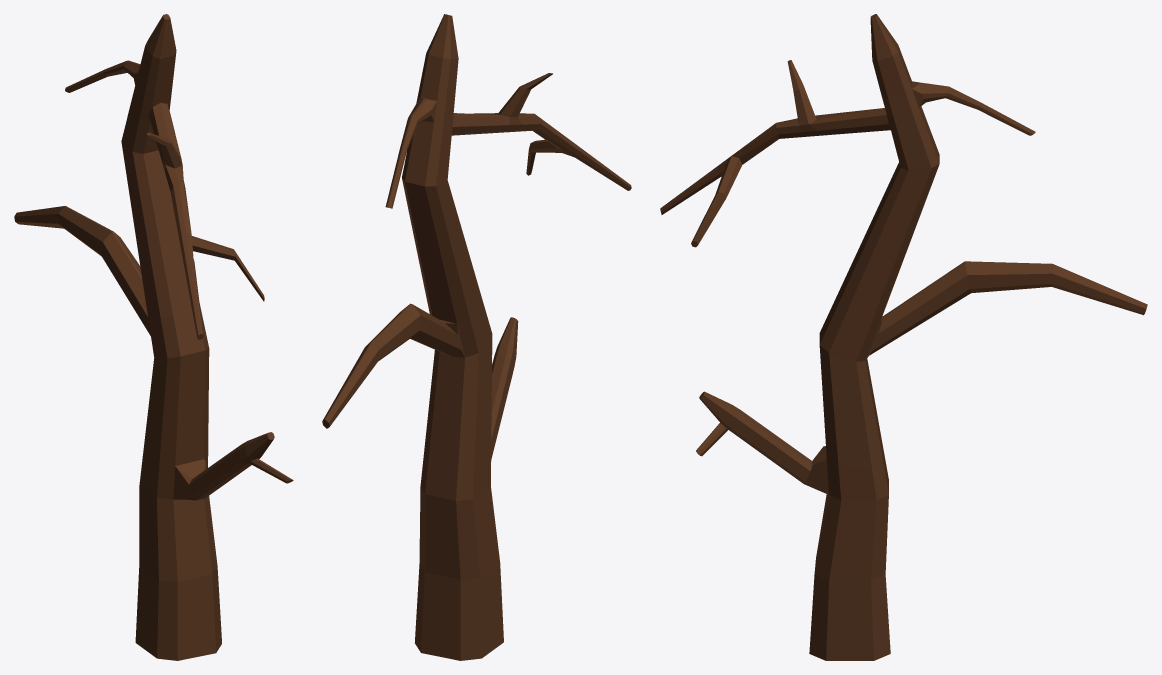
File: Tree13.glb
The picture shows the model from 3 angles, left to right: view 1: azimuth 30°, elevation 25°; view 2: azimuth 150°, elevation 25°; view 3: azimuth 270°, elevation 25°; orthographic projection. The views are drawn at different scales.
Visible parts, largest first — view 1: Tree2; view 2: Tree2; view 3: Tree2.
Boxes of the visible parts, <box> form: Tree2: <box>14,14,293,660</box>; Tree2: <box>322,14,631,660</box>; Tree2: <box>660,14,1147,660</box>.
Size of the model in its own units: 0.912 by 4.71 by 3.3.
